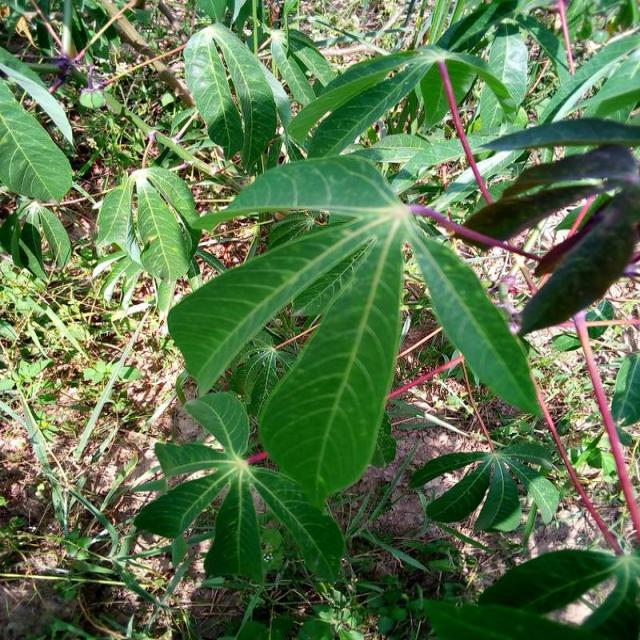cassava leaf: (168, 151, 542, 510)
